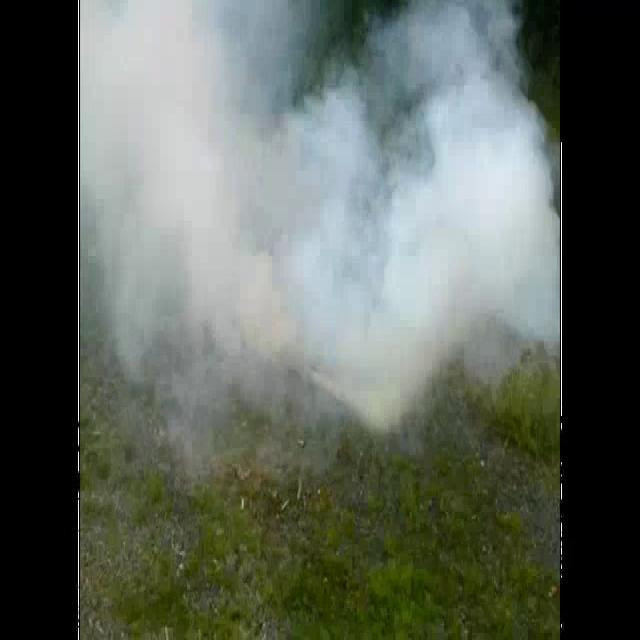Smoke: (79, 0, 559, 488)
